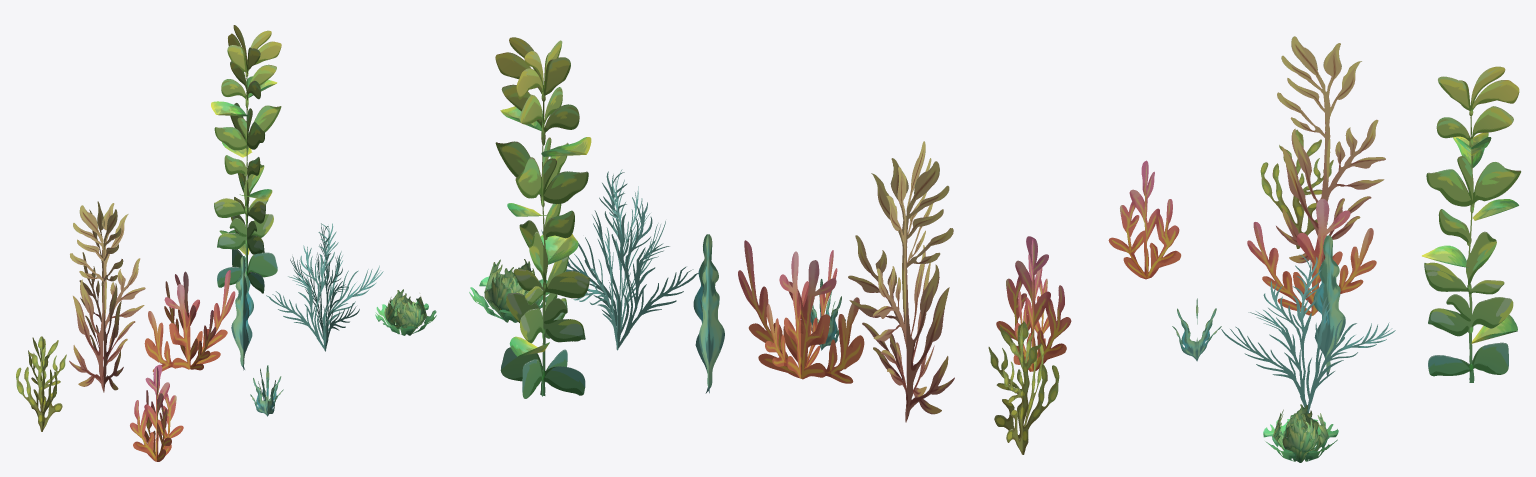
File: seaweeds.fbx
3 renders of one model, left to right at view 1: azimuth 30°, elevation 25°; view 2: azimuth 150°, elevation 25°; view 3: azimuth 270°, elevation 25°, orthographic. The views are drawn at different scales.
Visible parts, largest first — view 1: seaweed Kelp 1, Seaweed Tall Brown, Seaweed Coral Short, Seaweed thin teal, Seaweed Corral Long, Seaweed Grape, Seaweed Lettuce, Seaweed Tall Teal, Seaweed Short Teal; view 2: seaweed Kelp 1, Seaweed Tall Brown, Seaweed Coral Short, Seaweed thin teal, Seaweed Corral Long, Seaweed Grape, Seaweed Tall Teal, Seaweed Lettuce, Seaweed Short Teal; view 3: seaweed Kelp 1, Seaweed Tall Brown, Seaweed thin teal, Seaweed Coral Short, Seaweed Corral Long, Seaweed Lettuce, Seaweed Tall Teal, Seaweed Grape, Seaweed Short Teal.
Boxes of the visible parts, <box> form: seaweed Kelp 1: <box>211,25,281,293</box>; Seaweed Tall Brown: <box>69,201,145,392</box>; Seaweed Coral Short: <box>144,270,235,372</box>; Seaweed thin teal: <box>266,223,383,351</box>; Seaweed Corral Long: <box>130,364,183,461</box>; Seaweed Grape: <box>16,336,66,431</box>; Seaweed Lettuce: <box>375,289,436,335</box>; Seaweed Tall Teal: <box>231,256,253,370</box>; Seaweed Short Teal: <box>250,365,283,416</box>; seaweed Kelp 1: <box>495,37,591,398</box>; Seaweed Tall Brown: <box>848,141,954,422</box>; Seaweed Coral Short: <box>738,240,864,383</box>; Seaweed thin teal: <box>541,169,698,350</box>; Seaweed Corral Long: <box>996,236,1071,371</box>; Seaweed Grape: <box>988,320,1059,454</box>; Seaweed Tall Teal: <box>693,234,724,393</box>; Seaweed Lettuce: <box>469,259,549,322</box>; Seaweed Short Teal: <box>810,279,845,350</box>; seaweed Kelp 1: <box>1422,66,1521,382</box>; Seaweed Tall Brown: <box>1276,36,1385,263</box>; Seaweed thin teal: <box>1221,254,1395,413</box>; Seaweed Coral Short: <box>1247,198,1376,315</box>; Seaweed Corral Long: <box>1108,160,1181,279</box>; Seaweed Lettuce: <box>1263,404,1338,462</box>; Seaweed Tall Teal: <box>1313,235,1345,375</box>; Seaweed Grape: <box>1260,129,1333,248</box>; Seaweed Short Teal: <box>1172,298,1221,361</box>.
Size of the model in its own units: 9.19 by 5.89 by 6.29.
